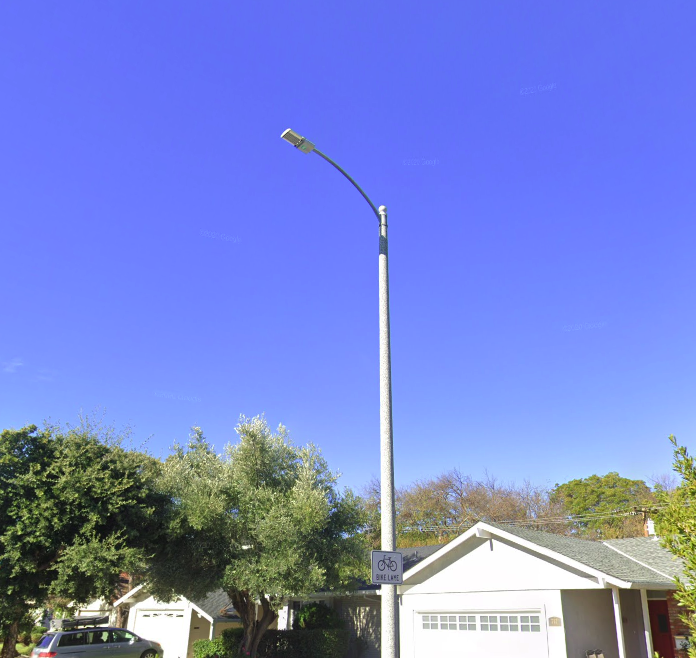pole: (272, 121, 403, 413)
